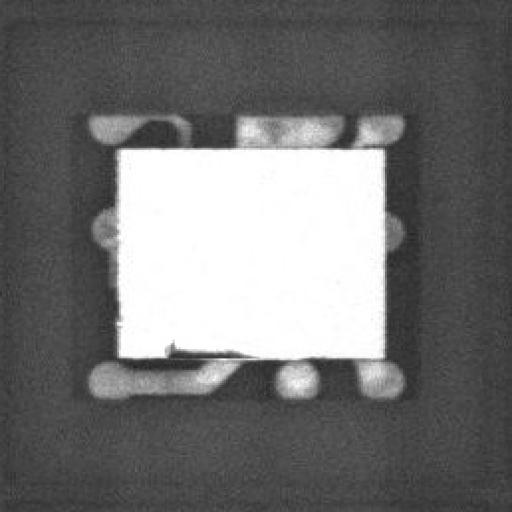DIE_BROKEN: (159, 336, 256, 360)
